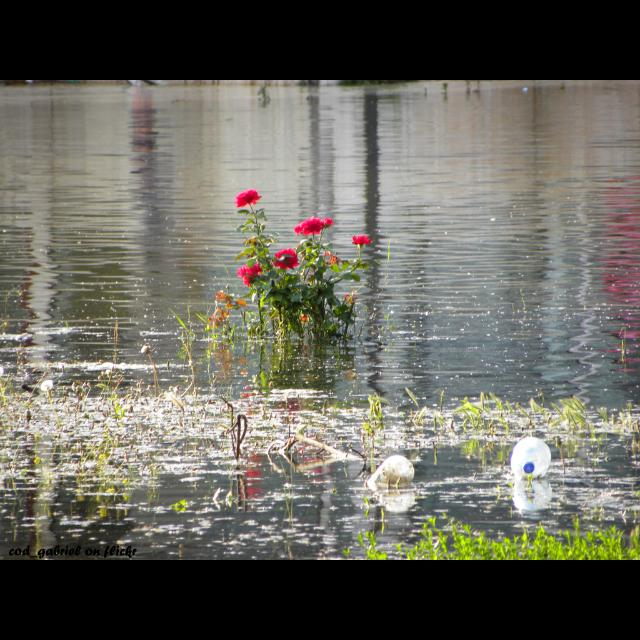Flower: (229, 180, 269, 222), (237, 262, 263, 290), (272, 249, 300, 271), (300, 218, 322, 236), (354, 235, 371, 247), (324, 218, 334, 228), (296, 226, 300, 238)
